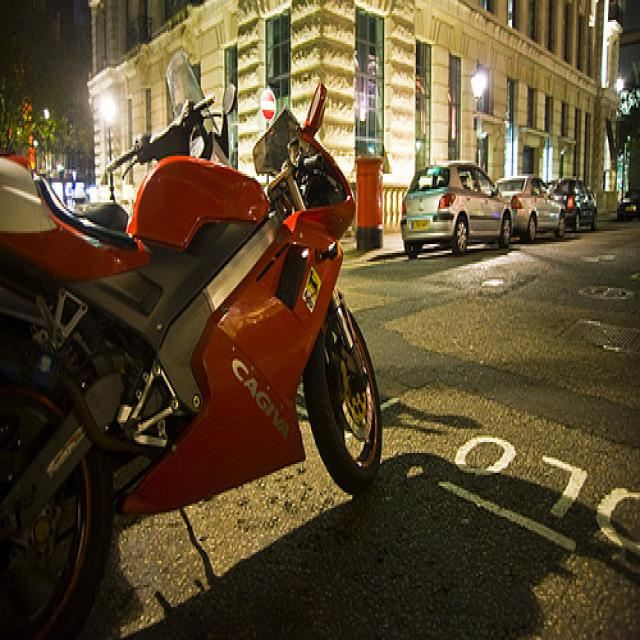motor: (0, 85, 383, 634), (74, 54, 239, 230)
